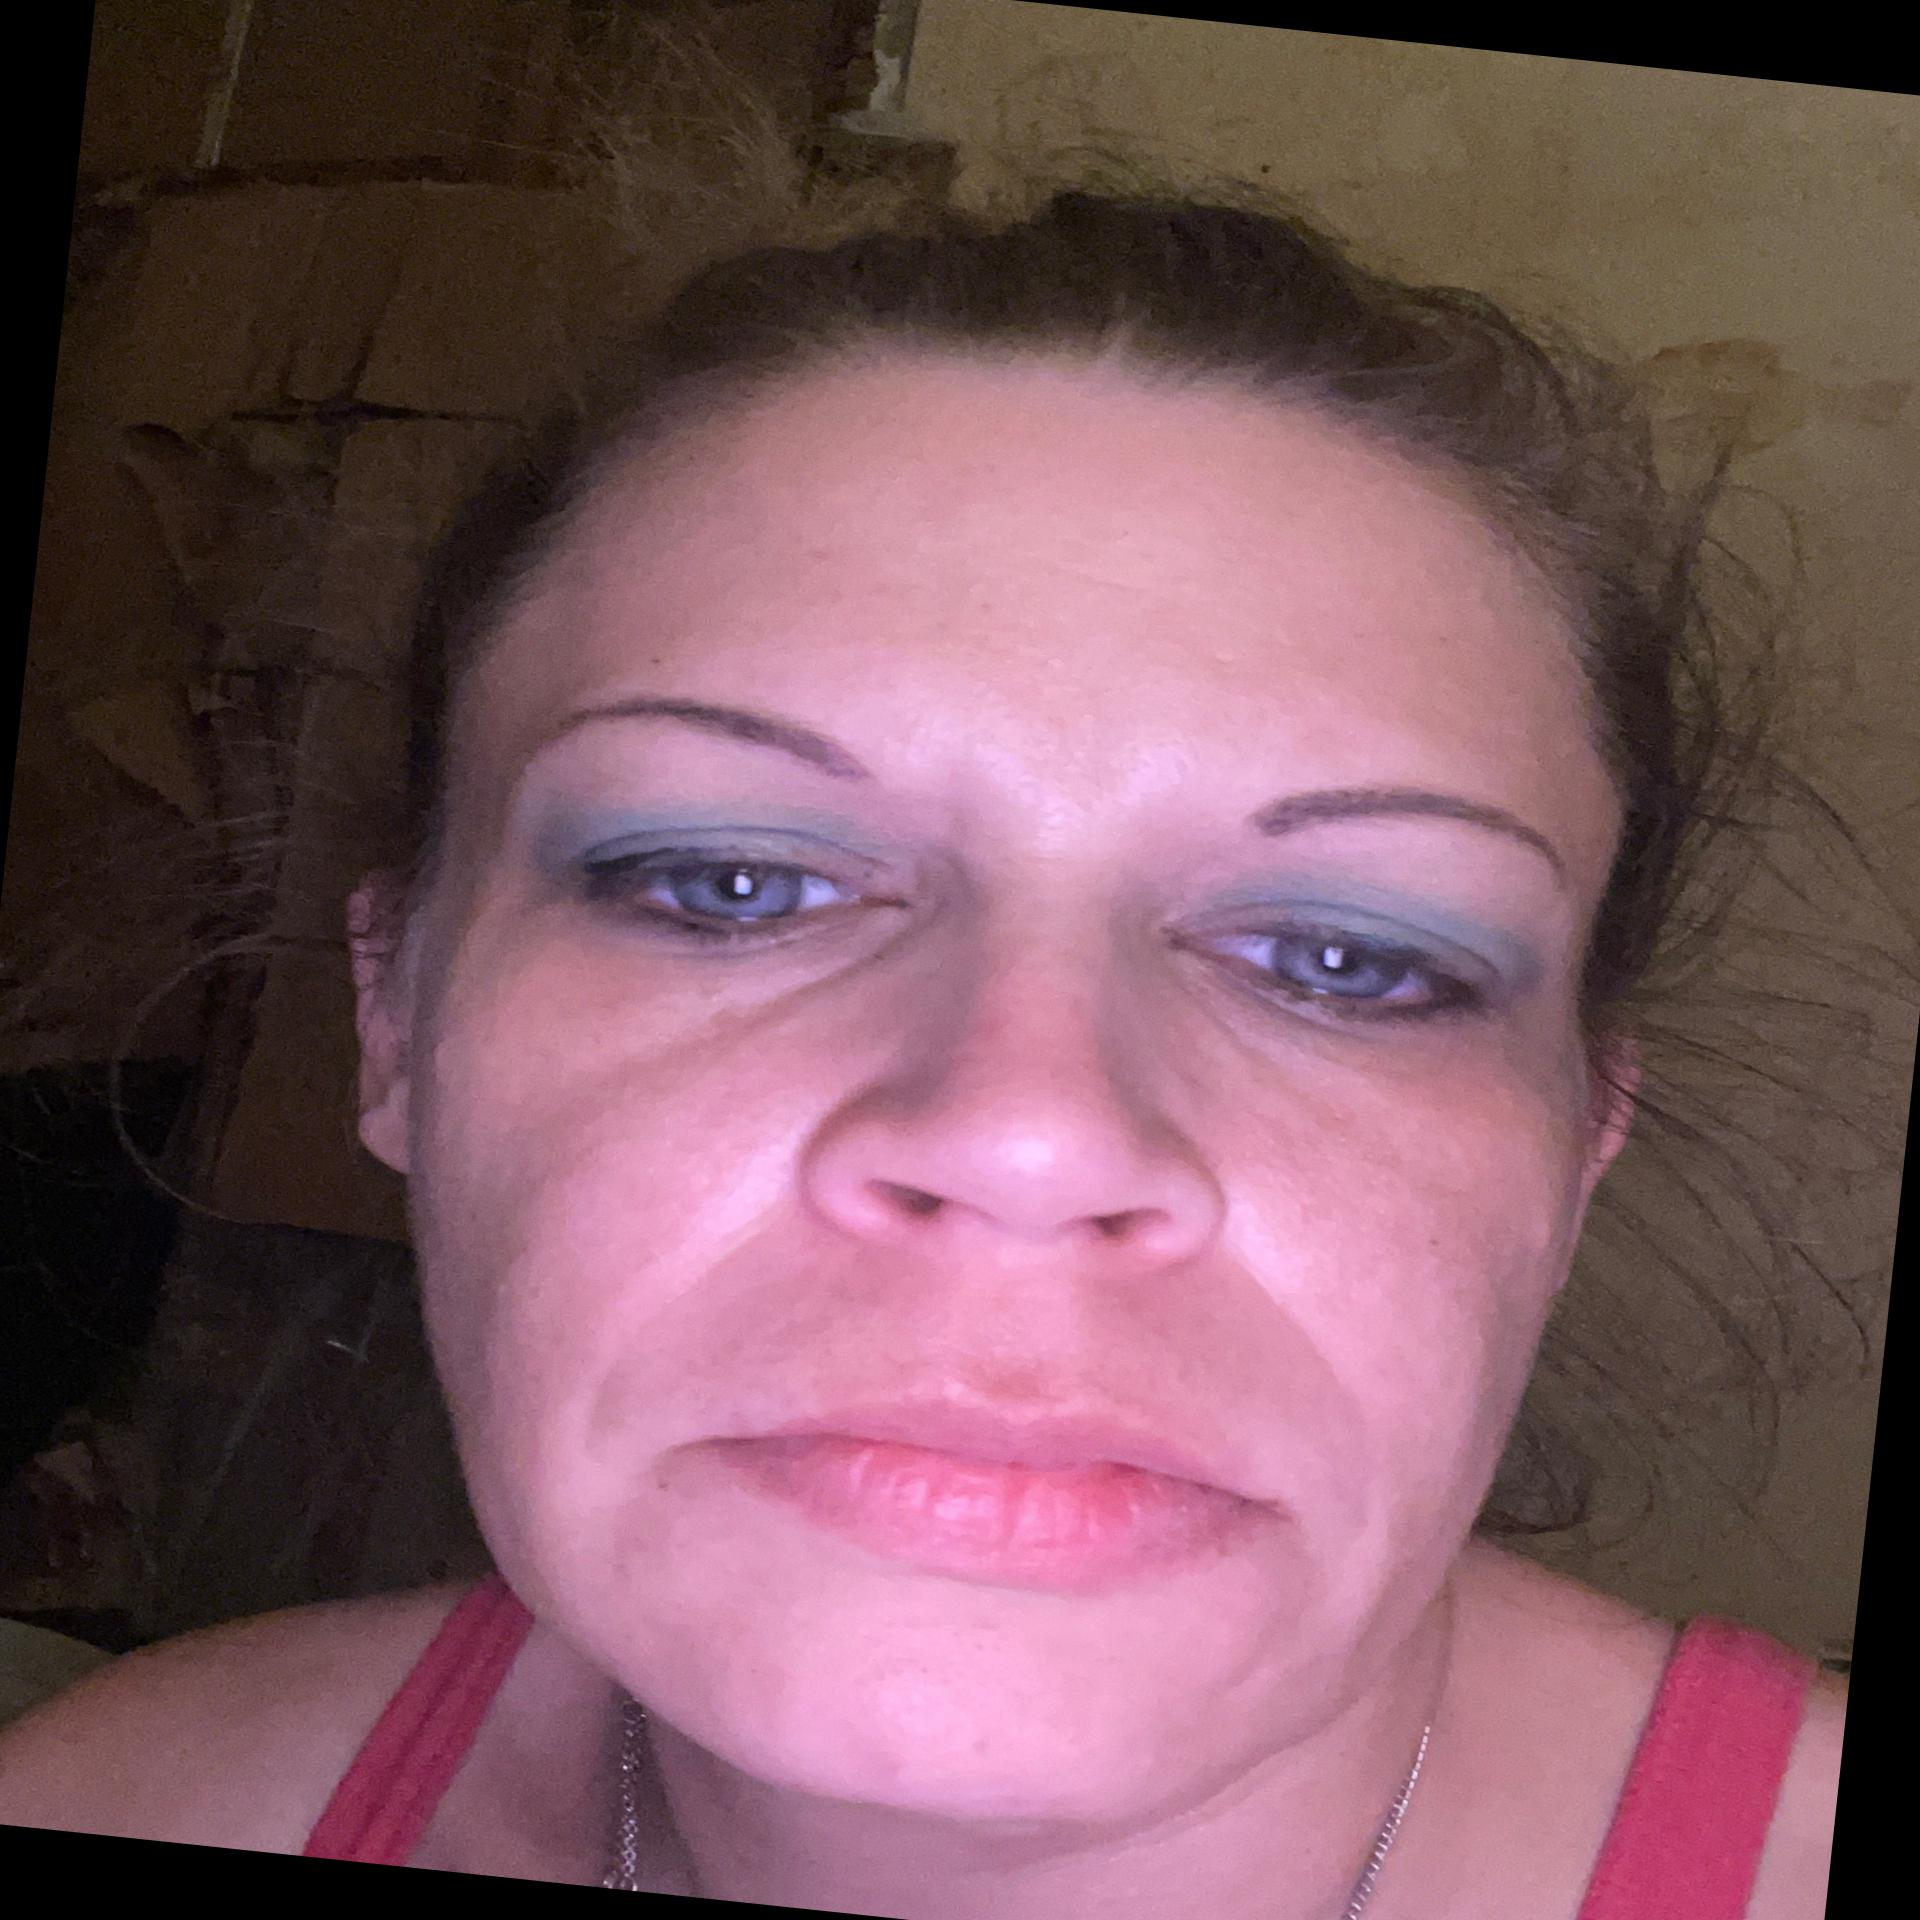Acne: (837, 1725, 944, 1786), (411, 1027, 452, 1085)
Dark Circles: (550, 886, 944, 1002), (1169, 946, 1486, 1087)
Wrinkles: (542, 1187, 786, 1449), (1204, 1472, 1393, 1728), (1218, 1245, 1378, 1431), (1016, 557, 1185, 600)
